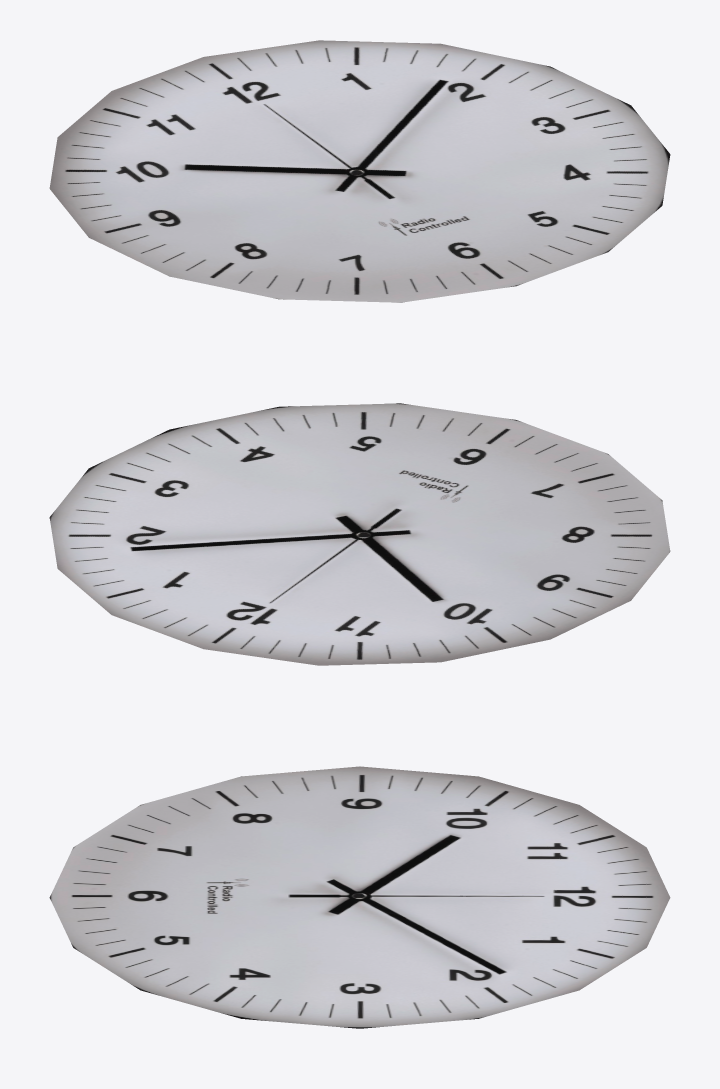
The model's file is WALL_CLOCK.fbx.
3 renders of one model, top to bottom at view 1: azimuth 30°, elevation 25°; view 2: azimuth 150°, elevation 25°; view 3: azimuth 270°, elevation 25°, orthographic.
Parts seen in each view (by area): view 1: WALL_CLOCK; view 2: WALL_CLOCK; view 3: WALL_CLOCK.
Boxes of the visible parts, x1,y1,x2,y2 form: WALL_CLOCK: (49,40,670,302); WALL_CLOCK: (49,403,670,665); WALL_CLOCK: (49,766,670,1028).
Bounding box in the file's own units: 38.52 × 2.58 × 38.52.
